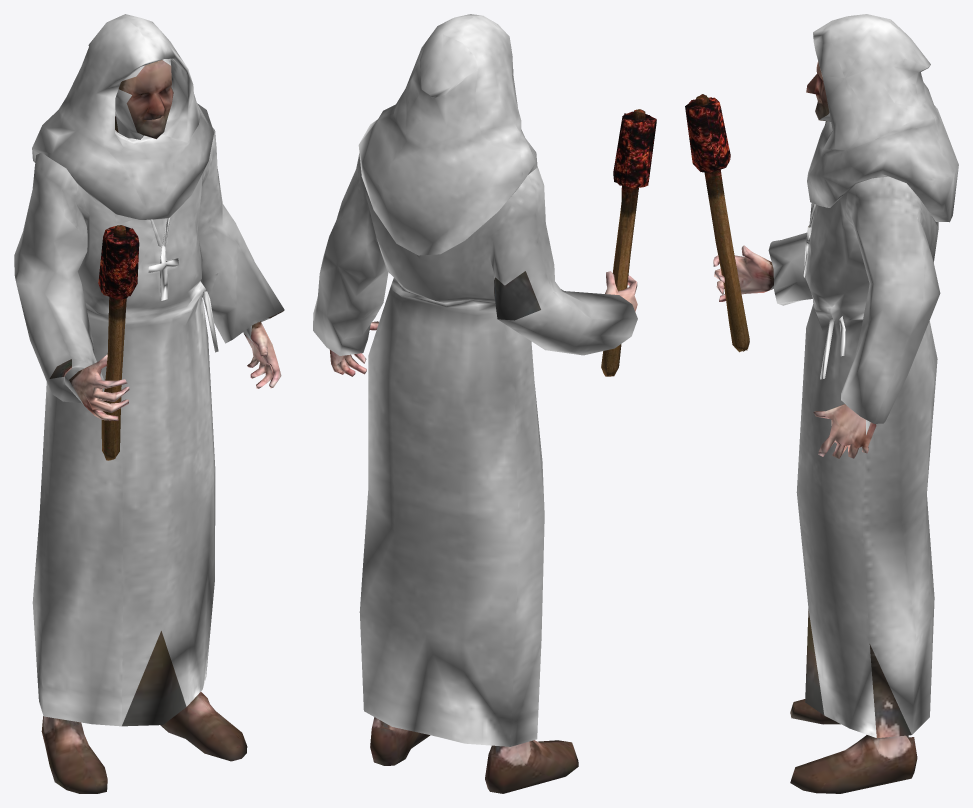
File: realistic-by.b0221350601e.fanatic.glb
3 views of the same model, side by side, from view 1: azimuth 30°, elevation 25°; view 2: azimuth 150°, elevation 25°; view 3: azimuth 270°, elevation 25° (orthographic).
Visible parts, largest first — view 1: fanatic; view 2: fanatic; view 3: fanatic.
Boxes of the visible parts, bbox=[...] form: fanatic: bbox=[14, 14, 284, 793]; fanatic: bbox=[313, 14, 656, 793]; fanatic: bbox=[685, 14, 958, 793].
Bounding box in the file's own units: 0.7129 × 1.8 × 0.6089.
Materials: 3 (3 with a texture image).
